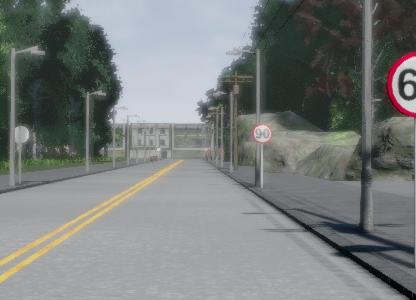Speed_60: (391, 29, 416, 113)
